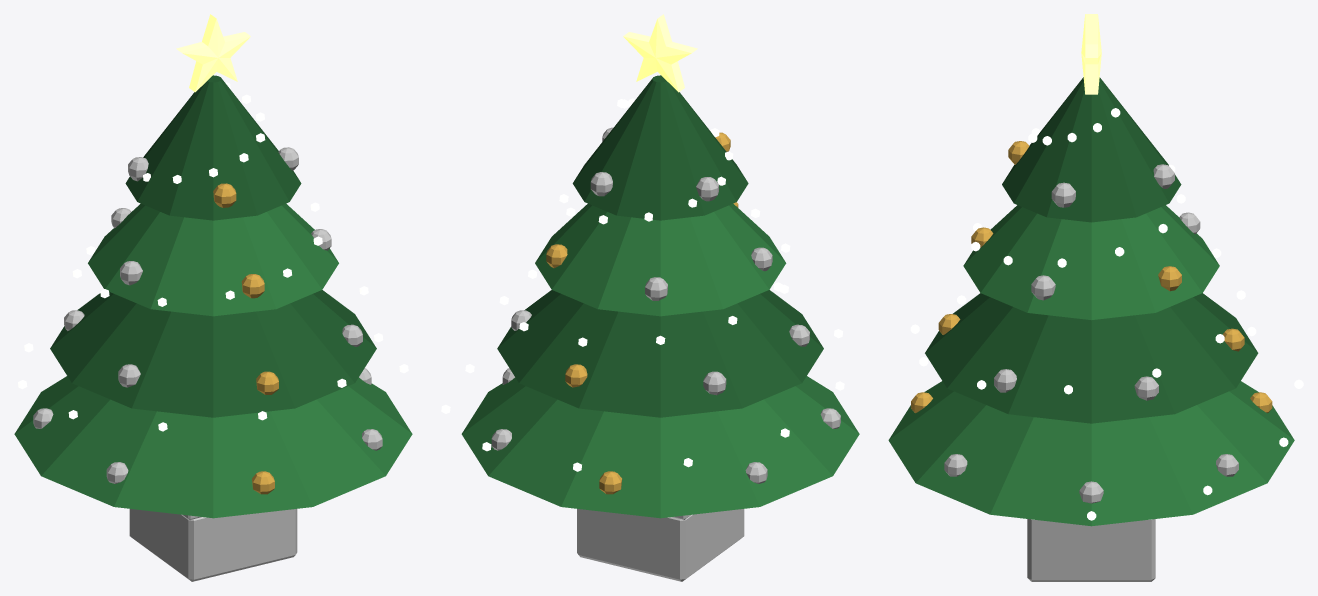
The model's file is ev_tree_xmas_v01.glb.
3 renders of one model, left to right at view 1: azimuth 30°, elevation 25°; view 2: azimuth 150°, elevation 25°; view 3: azimuth 270°, elevation 25°, orthographic. The views are drawn at different scales.
Parts seen in each view (by area): view 1: tree_xmas; view 2: tree_xmas; view 3: tree_xmas.
Part boxes in pixels (box(x1,y1,x2,y2)): tree_xmas: box(14, 14, 412, 581); tree_xmas: box(441, 14, 859, 581); tree_xmas: box(888, 14, 1303, 581).
Bounding box in the file's own units: 2.02 × 2.8 × 1.94.
